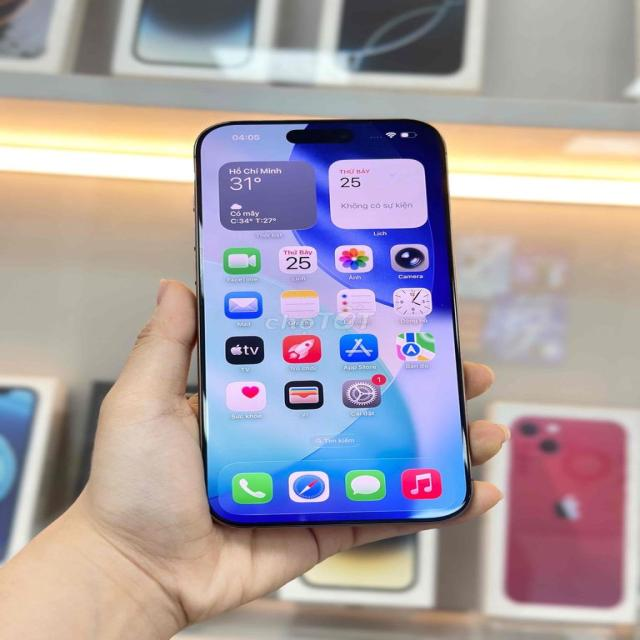gen_16: (170, 97, 486, 539)
